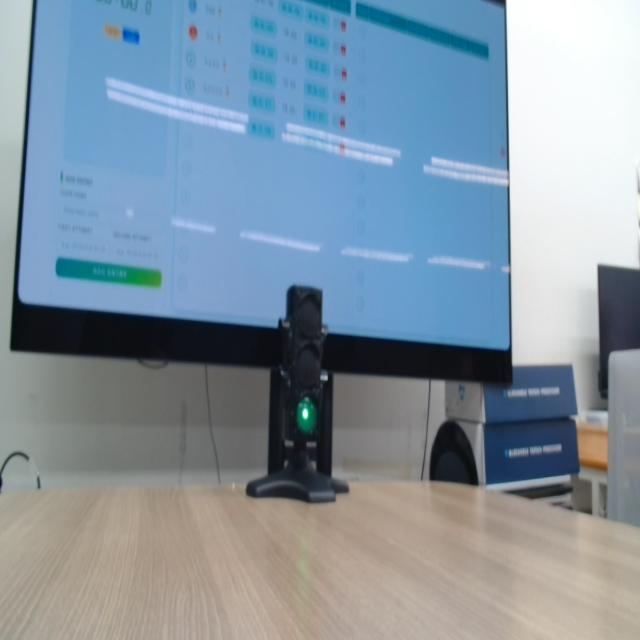green_light: (297, 399, 317, 435)
